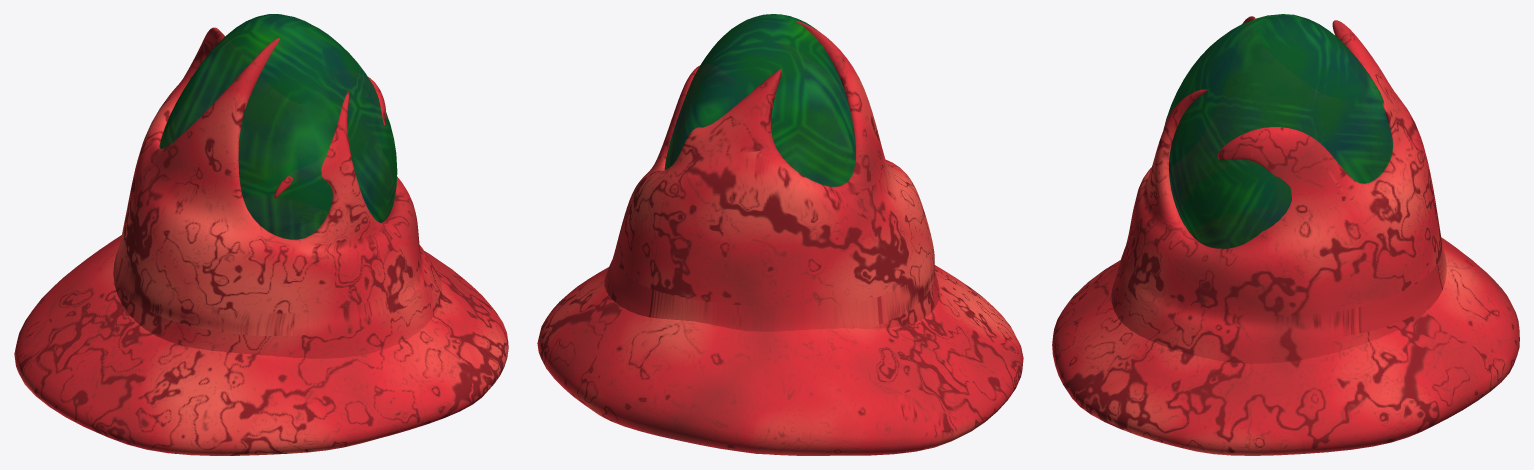
The model's file is Alien Egg(Baked).fbx.
3 views of the same model, side by side, from view 1: azimuth 30°, elevation 25°; view 2: azimuth 150°, elevation 25°; view 3: azimuth 270°, elevation 25° (orthographic).
Visible parts, largest first — view 1: Cube; view 2: Cube; view 3: Cube.
Part boxes in pixels (x1,y1,x2,y2): Cube: [14, 14, 508, 455]; Cube: [537, 14, 1023, 455]; Cube: [1052, 14, 1519, 455].
Bounding box in the file's own units: 457 × 370 × 433.
